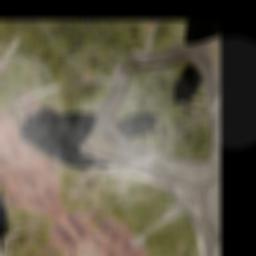Crow: (8, 48, 165, 200)
